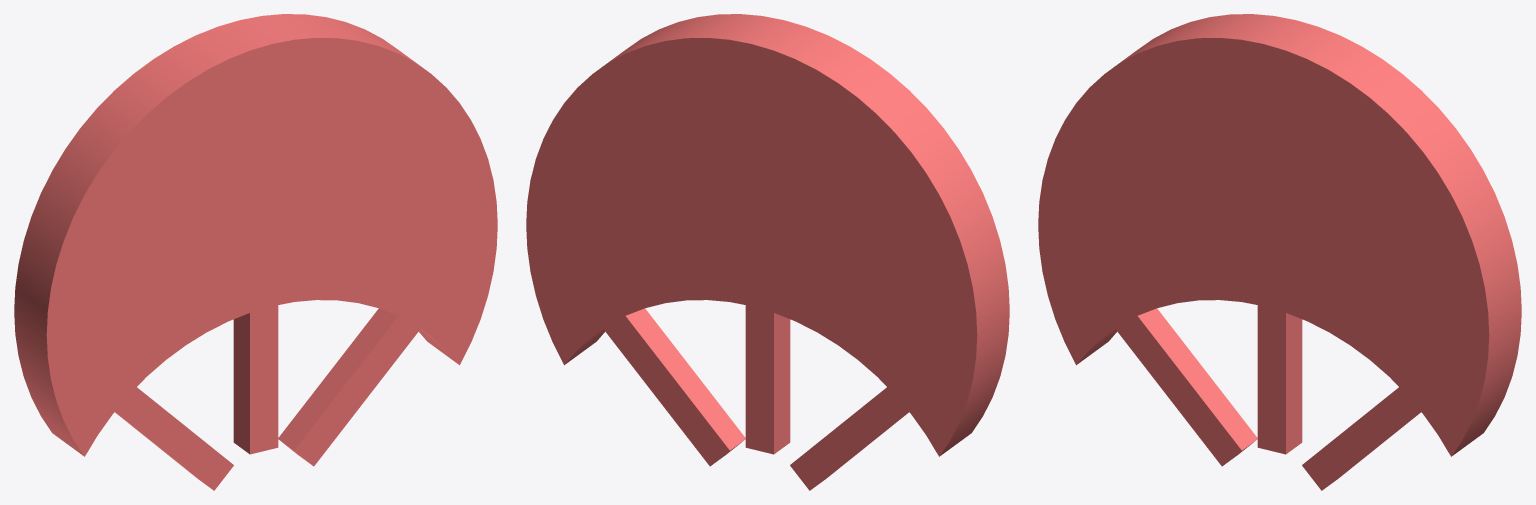
Rendered from Parachute.obj.
The picture shows the model from 3 angles, left to right: view 1: azimuth 30°, elevation 25°; view 2: azimuth 150°, elevation 25°; view 3: azimuth 330°, elevation 25°; orthographic projection.
Parts seen in each view (by area): view 1: PARACHUTE; view 2: PARACHUTE; view 3: PARACHUTE.
Part boxes in pixels (x1,y1,x2,y2): PARACHUTE: (14,14,497,490); PARACHUTE: (526,14,1009,490); PARACHUTE: (1038,14,1521,490).
Bounding box in the file's own units: 4 × 3.73 × 0.5.
